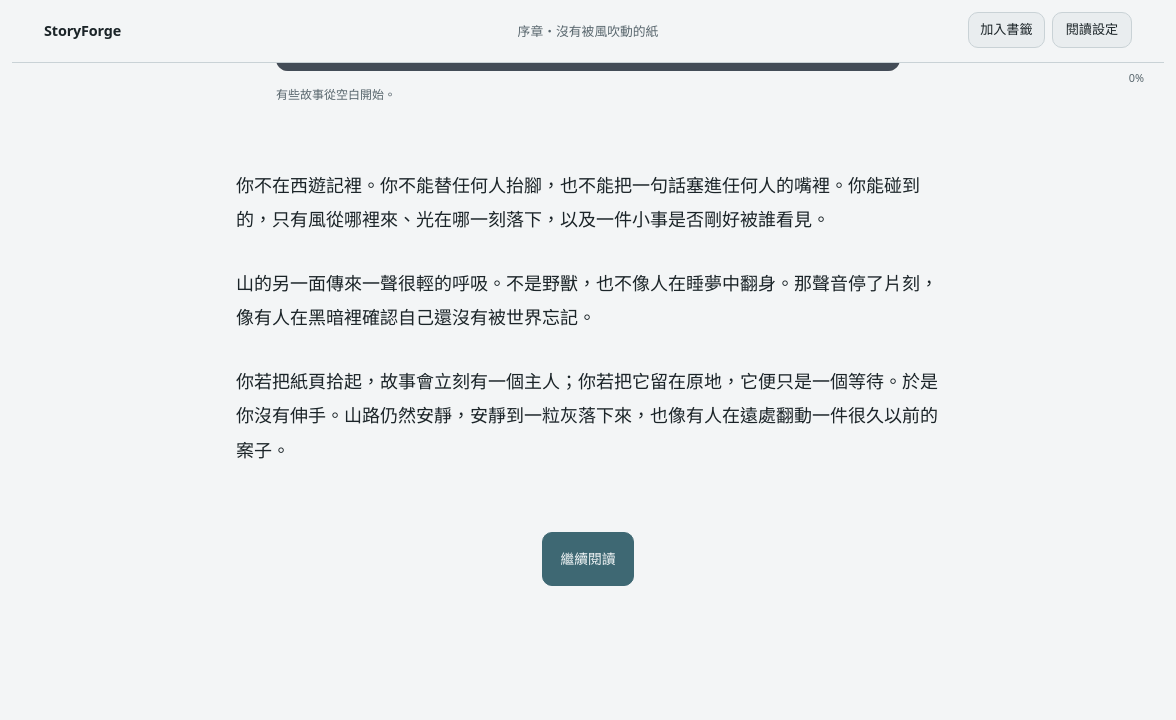
Book reader › appends Journey81 nodes until its first causal Choice
(page scrolled)
Click the button "繼續閱讀": (588, 559) [542, 532, 634, 586]
(page scrolled)
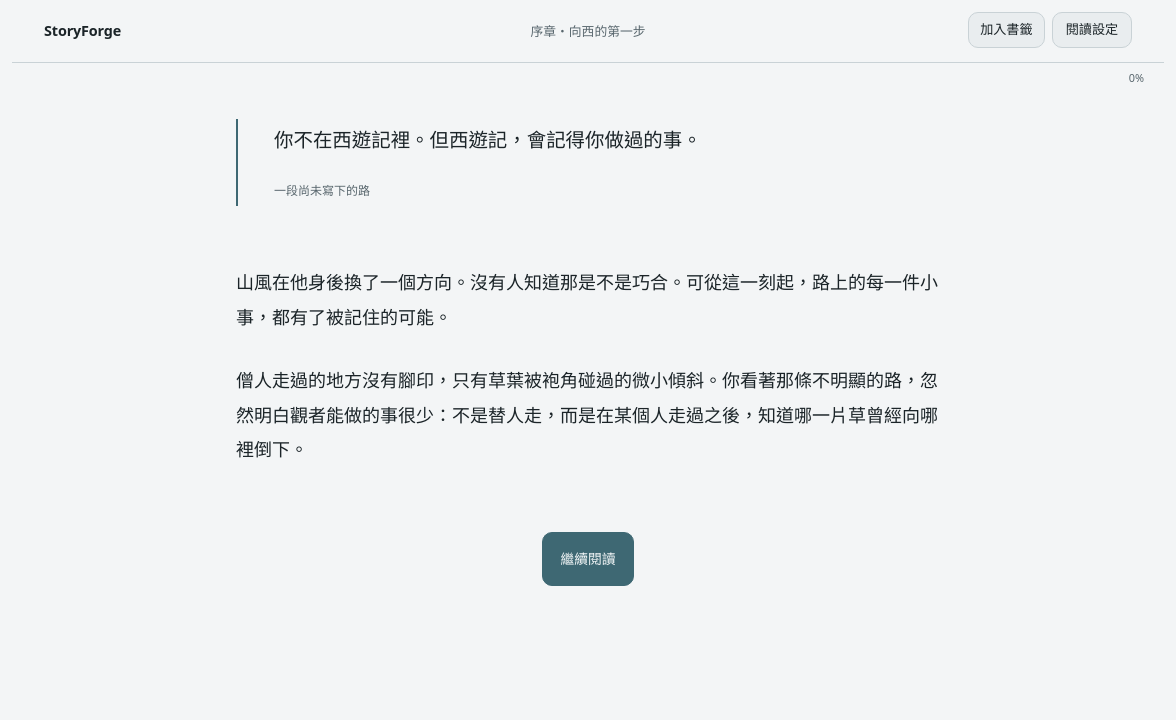
Click the button "繼續閱讀": (588, 559) [542, 532, 634, 586]
(page scrolled)
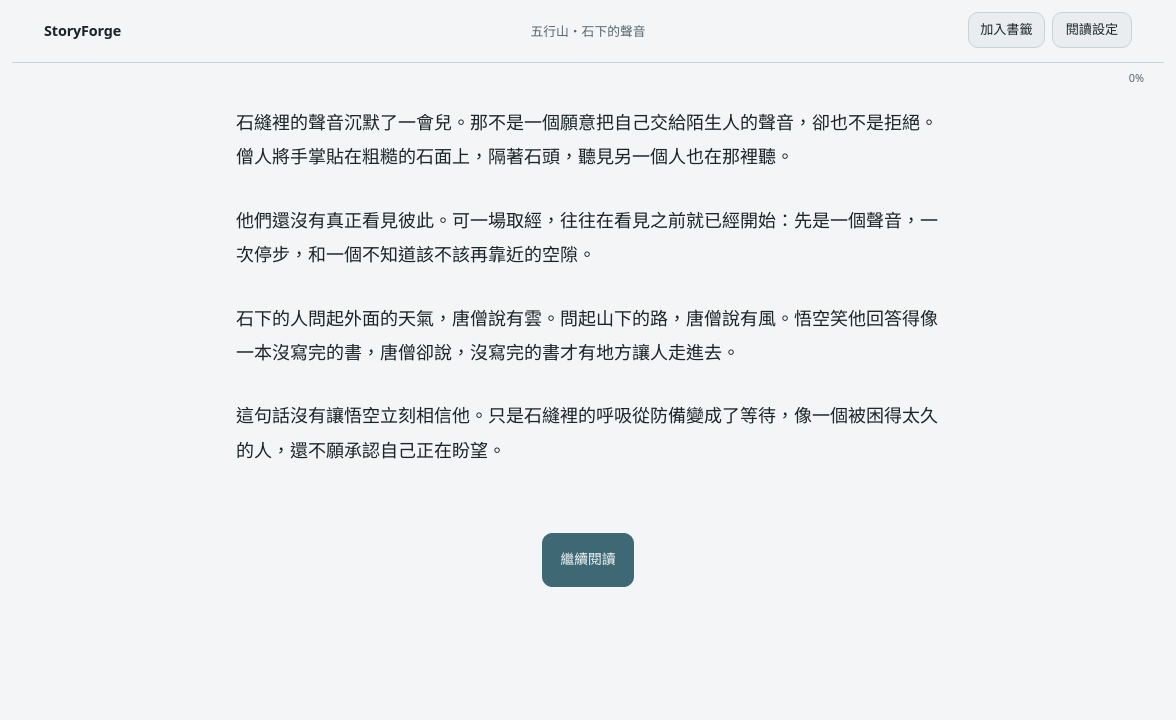
Click the button "繼續閱讀": (588, 560) [542, 533, 634, 587]
(page scrolled)
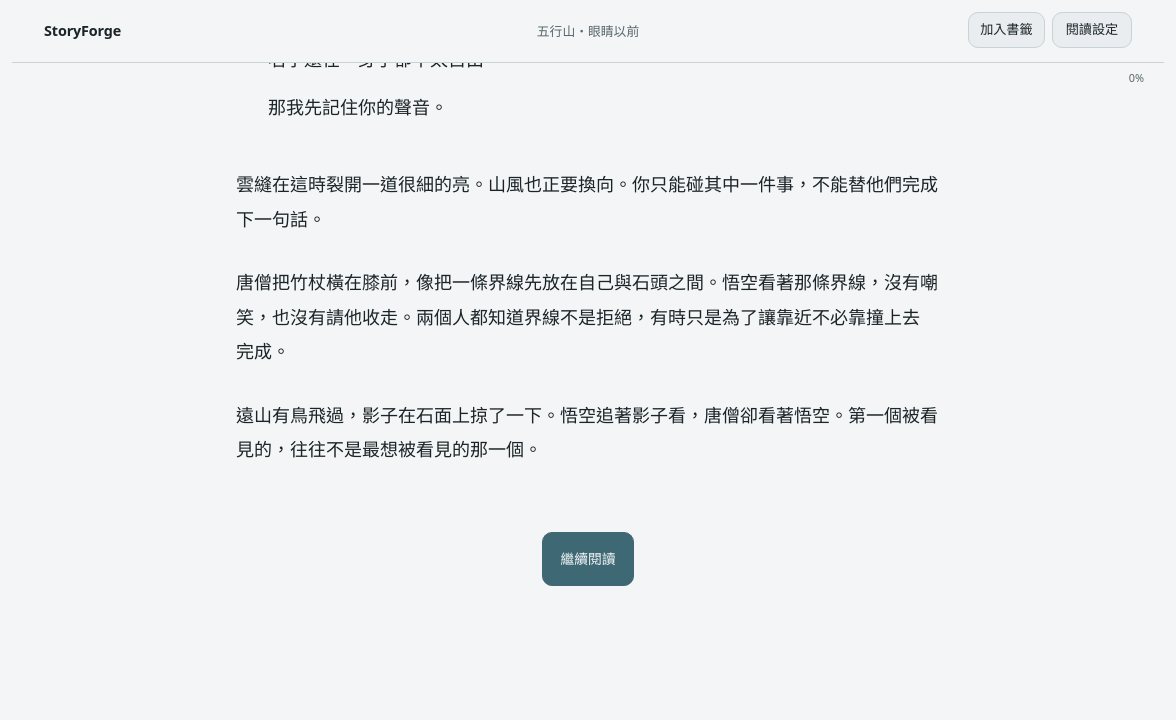
Click the button "繼續閱讀": (588, 559) [542, 532, 634, 586]
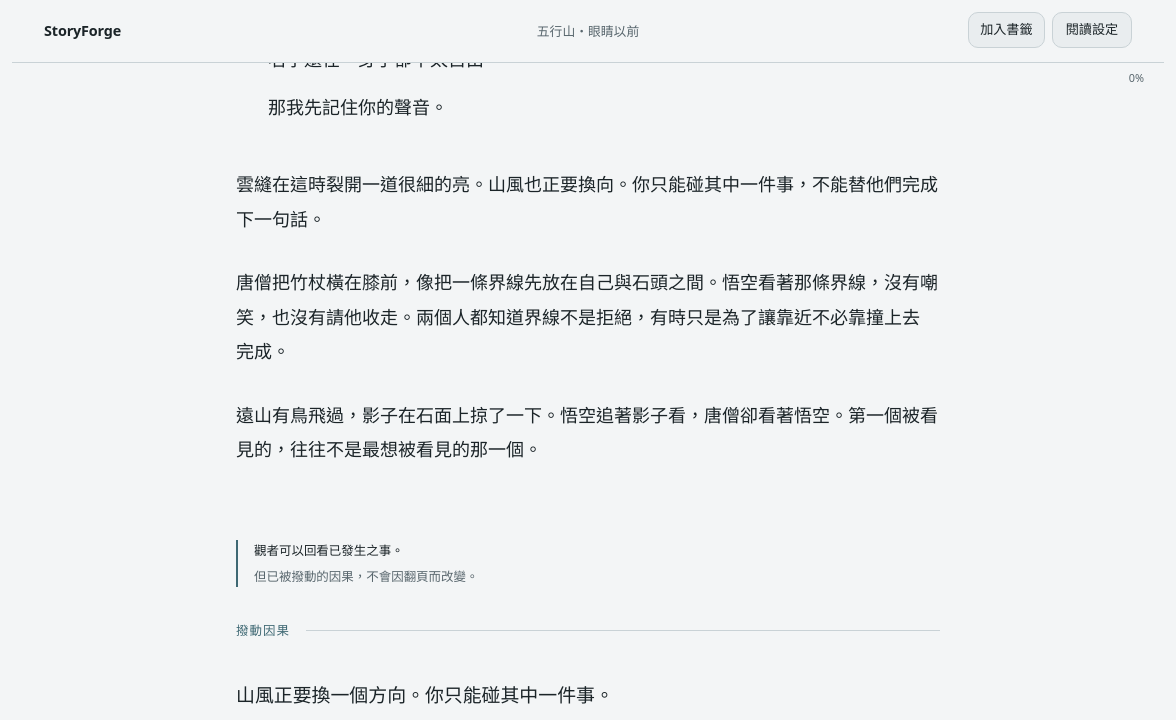
Expected: the text "山風正要換一個方向。你只能碰其中一件事。" is shown, [236, 685, 614, 706]
Expected: the text "觀者可以回看已發生之事。" is shown, [254, 542, 404, 559]
